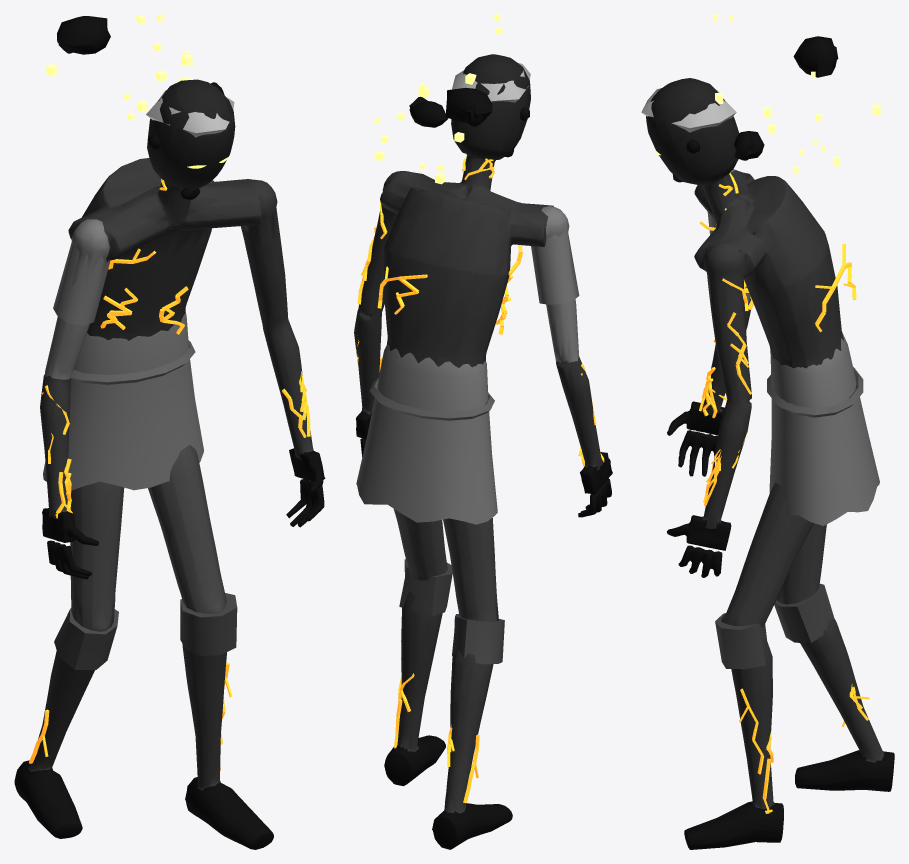
The model's file is SM_Char_zhdan2.fbx.
The picture shows the model from 3 angles, left to right: view 1: azimuth 30°, elevation 25°; view 2: azimuth 150°, elevation 25°; view 3: azimuth 270°, elevation 25°; orthographic projection. The views are drawn at different scales.
Parts seen in each view (by area): view 1: SM_Char_zhdan2, SM_Char_zhdan2_Glow; view 2: SM_Char_zhdan2, SM_Char_zhdan2_Glow; view 3: SM_Char_zhdan2, SM_Char_zhdan2_Glow.
Part boxes in pixels (left/top/right/bottom): SM_Char_zhdan2: left=14, top=16, right=325, bottom=849; SM_Char_zhdan2_Glow: left=29, top=14, right=310, bottom=771; SM_Char_zhdan2: left=354, top=54, right=612, bottom=849; SM_Char_zhdan2_Glow: left=356, top=14, right=604, bottom=803; SM_Char_zhdan2: left=641, top=36, right=894, bottom=849; SM_Char_zhdan2_Glow: left=653, top=14, right=880, bottom=813.
Bounding box in the file's own units: 0.6198 × 1.9 × 0.5493.
